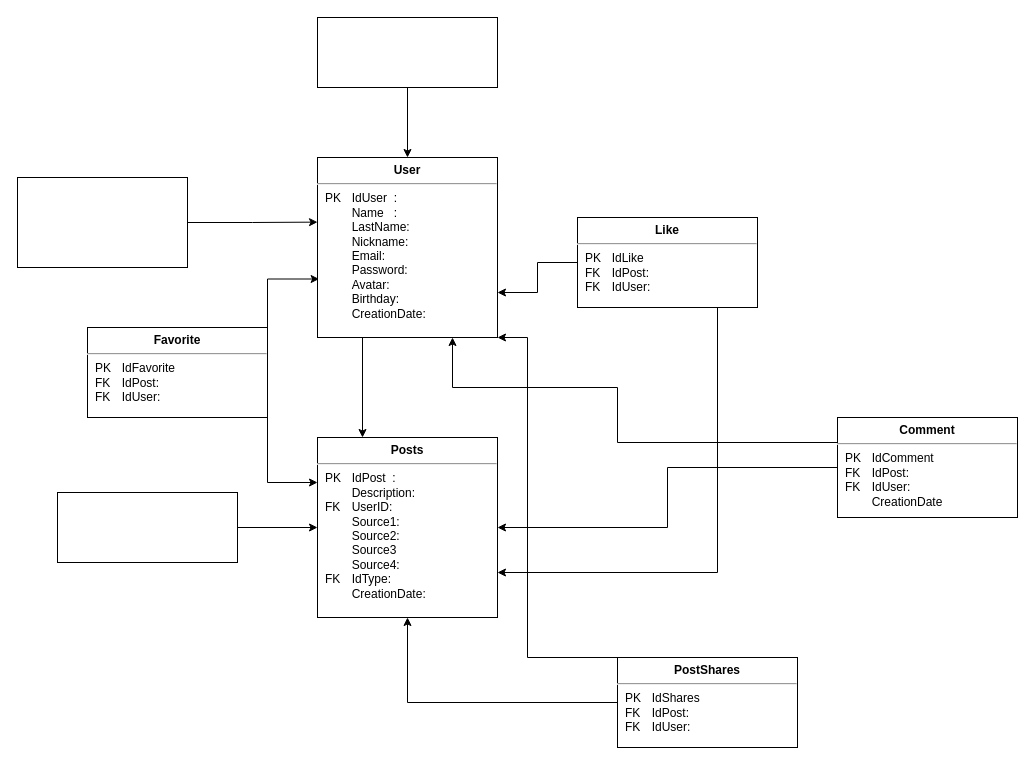
The diagram is 1035 pixels wide and 765 high, and some of its shapes have lost their labels. The centre of each missing label's shape, as x and y in pixels:
"Avatar PK IdAvatar : Avatar:" goes at pixel 407 52.
"Follow PK IdFollow FK IdFollowerUser: FK IdFollowedUser:" goes at pixel 102 222.
"TypePost PK IdTypet : Type:" goes at pixel 147 527.
